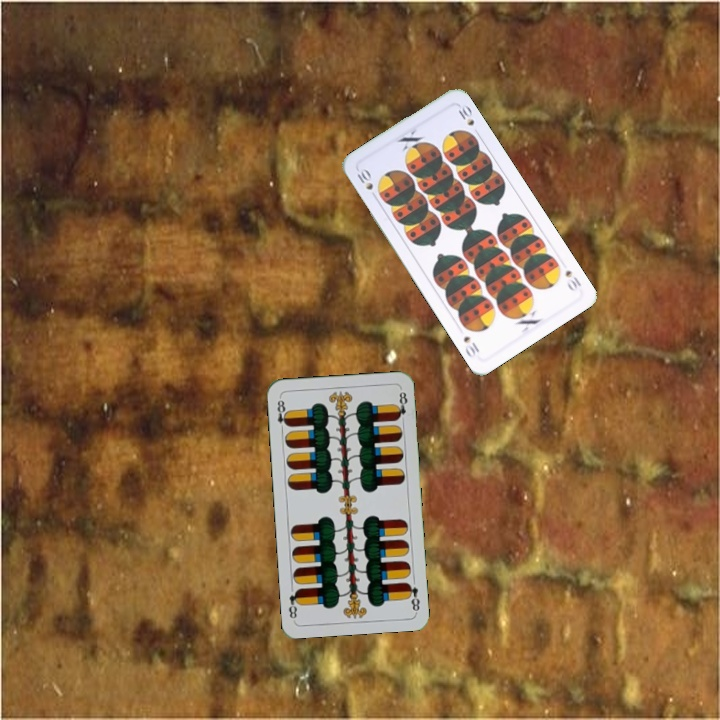E8: (273, 394, 291, 434), (403, 579, 422, 614)
S10: (353, 164, 376, 193), (561, 266, 584, 294)
